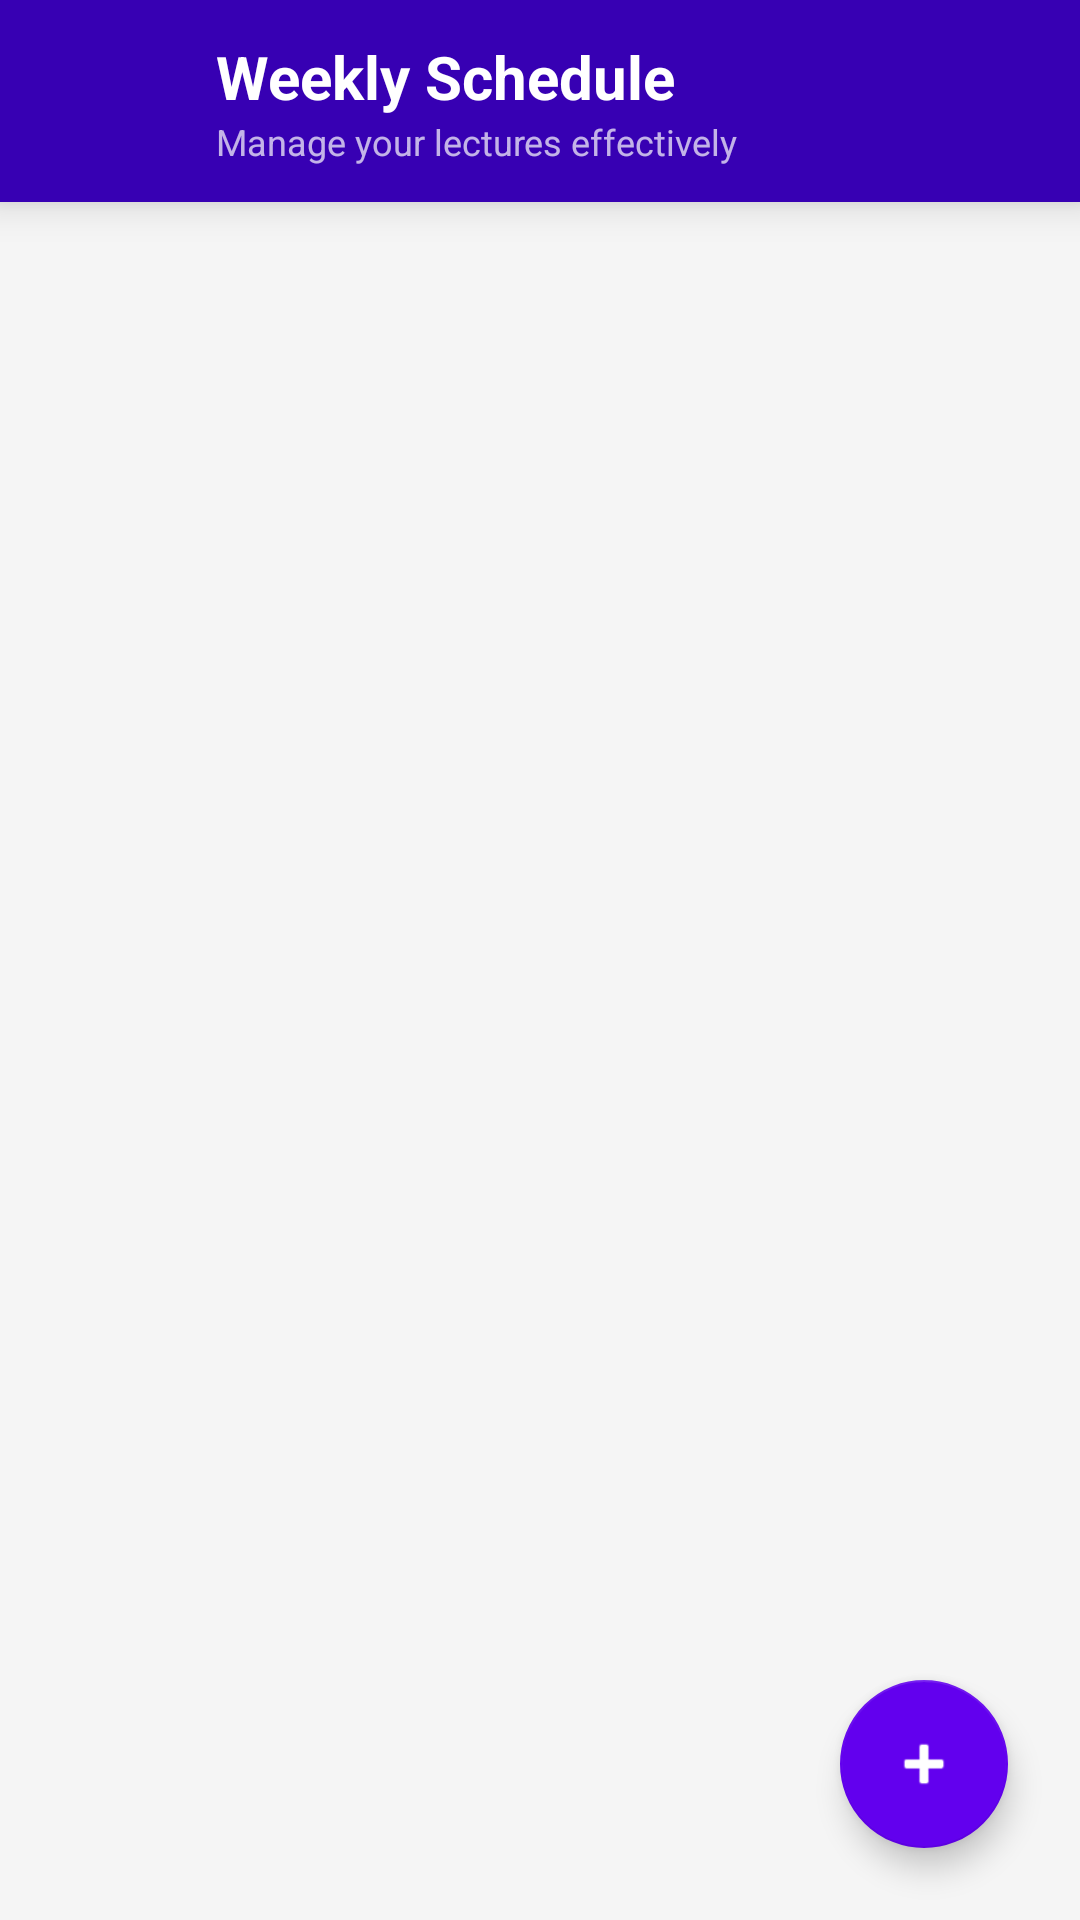

Screen size 1080px x 1920px. Icon name, then its box in pixels as (x1, y1, x2, y2):
Add Lecture: (840, 1680, 1008, 1848)
